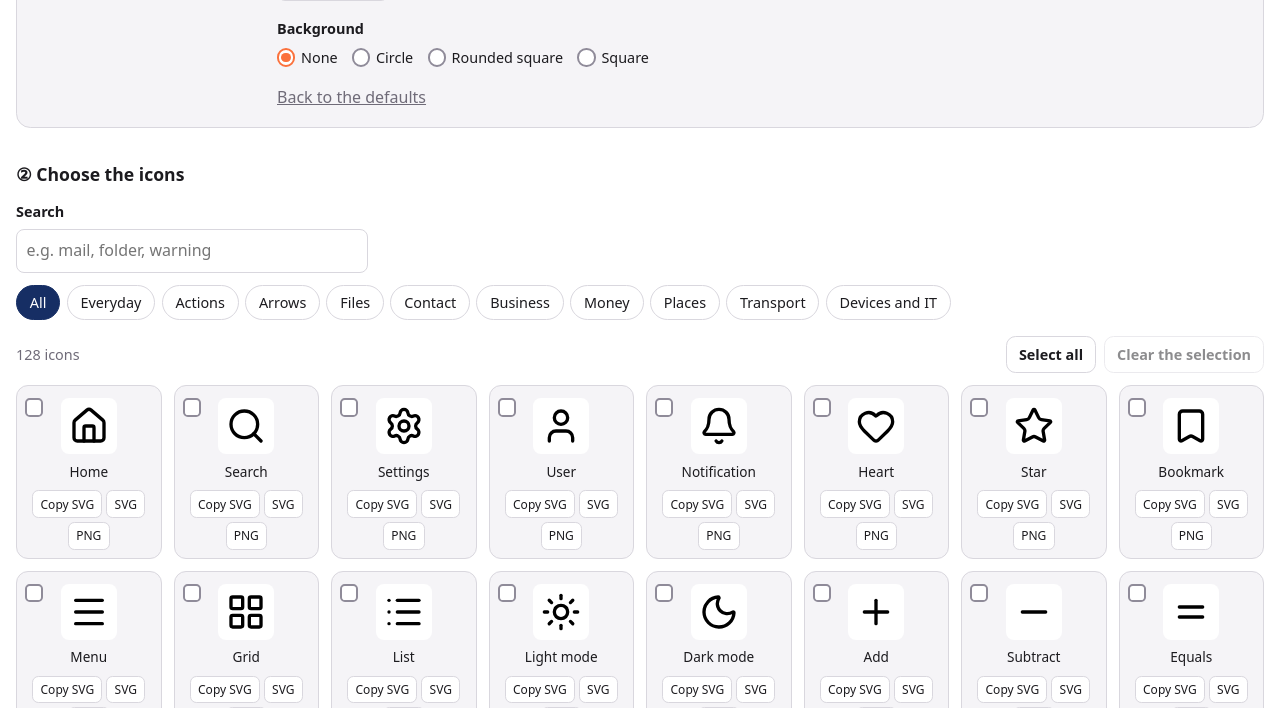
IconGeneratorTool › selects and clears the whole grid
(page scrolled)
What coordinates should you click on to do the following:
click the button "Select all"
I would click on:
 (1051, 354)
Its box is left=1006, top=336, right=1096, bottom=373.
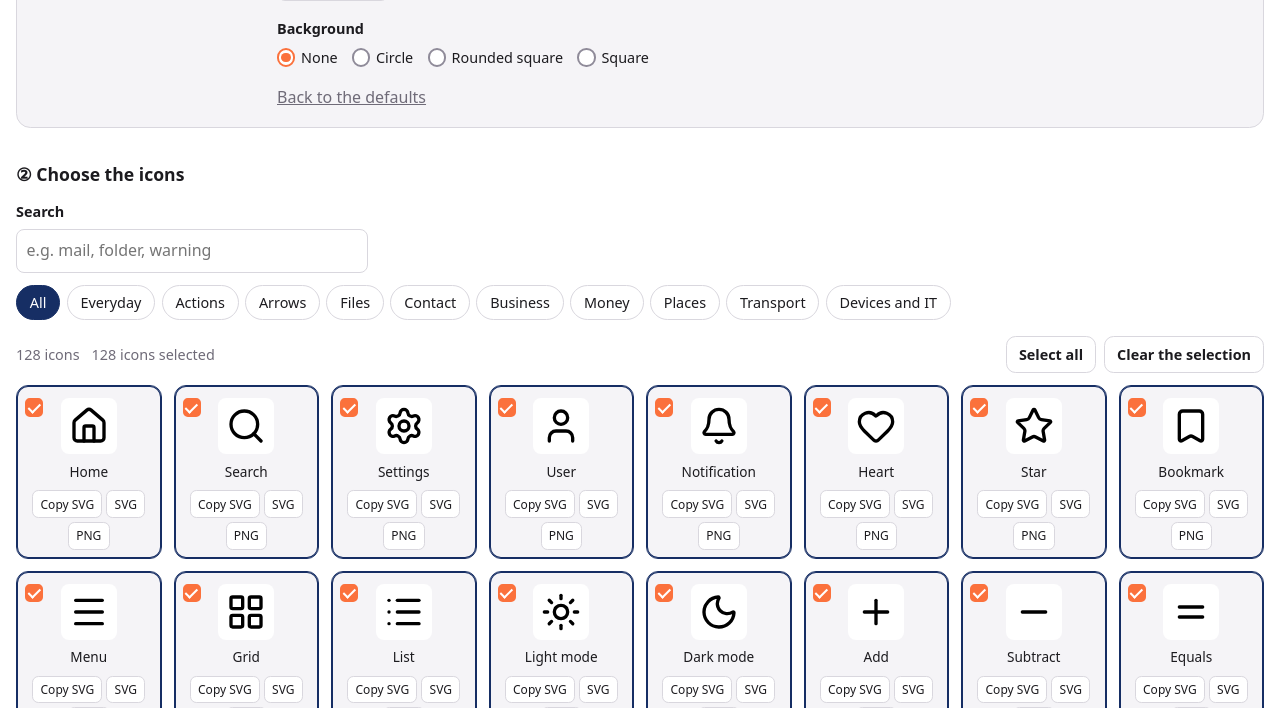
What coordinates should you click on to do the following:
click the button "Clear the selection"
I would click on:
 (1184, 354)
Its box is left=1104, top=336, right=1264, bottom=373.
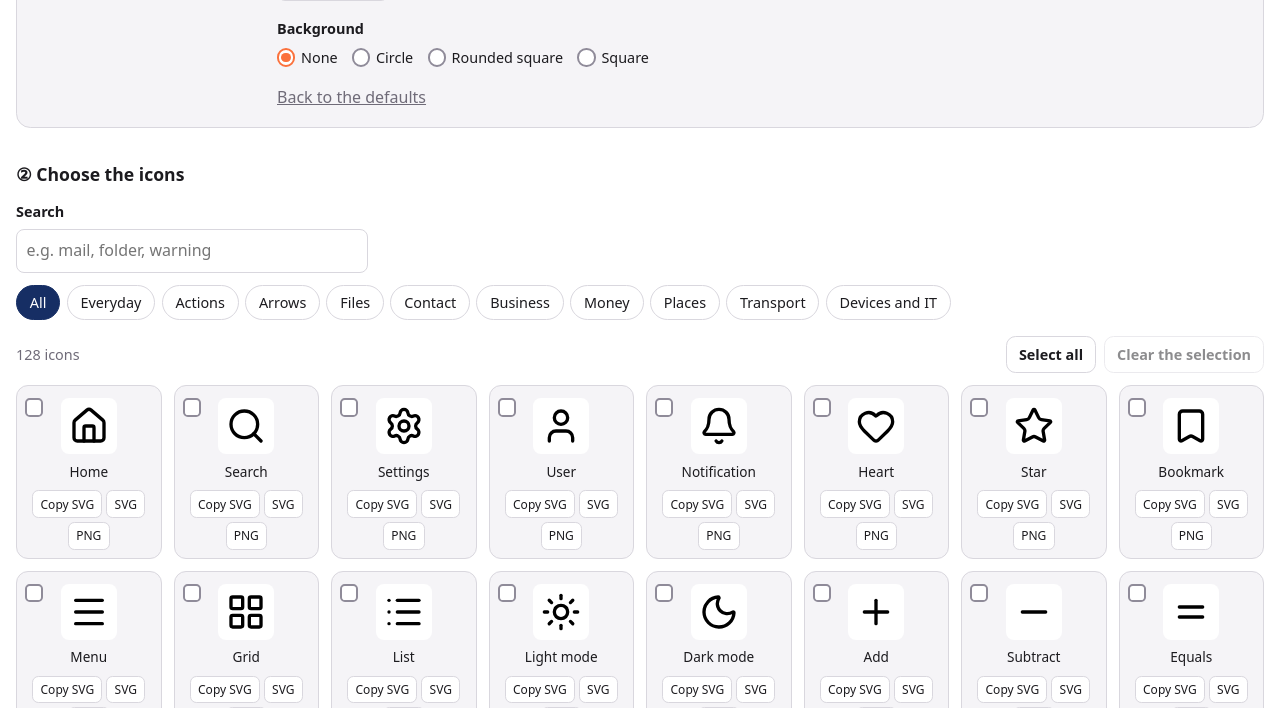
Expected: the text "icons selected" is gone
